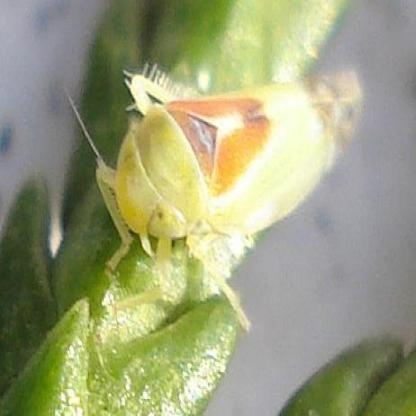green-leafhopper: (93, 69, 367, 334)
